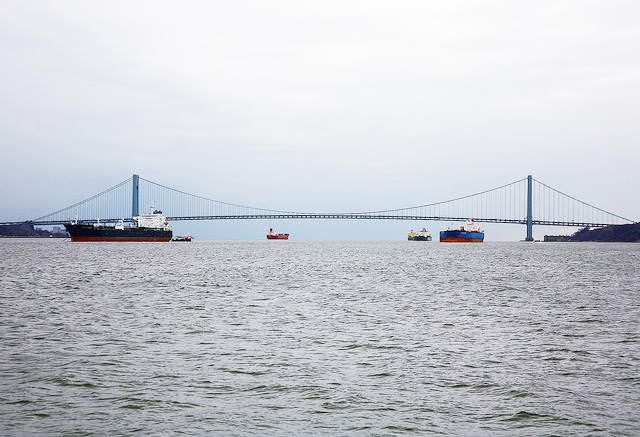tanker: (59, 209, 173, 243), (442, 218, 487, 244), (262, 226, 295, 245), (413, 226, 434, 241)
